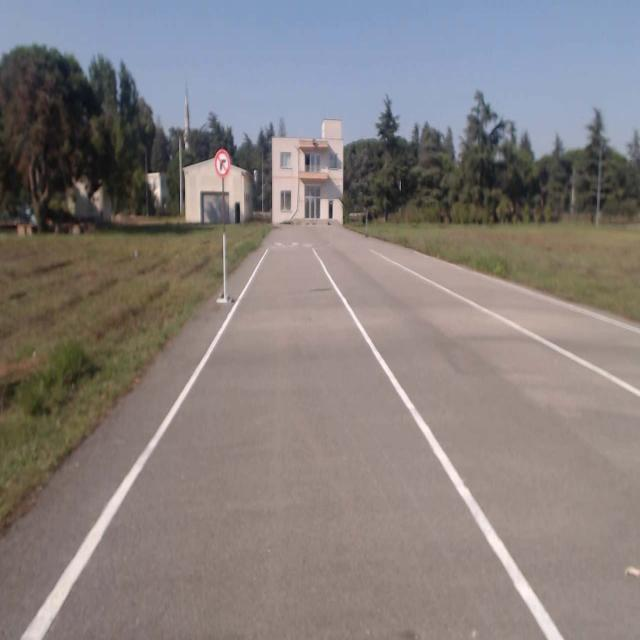sagadonulmez: (216, 149, 228, 176)
